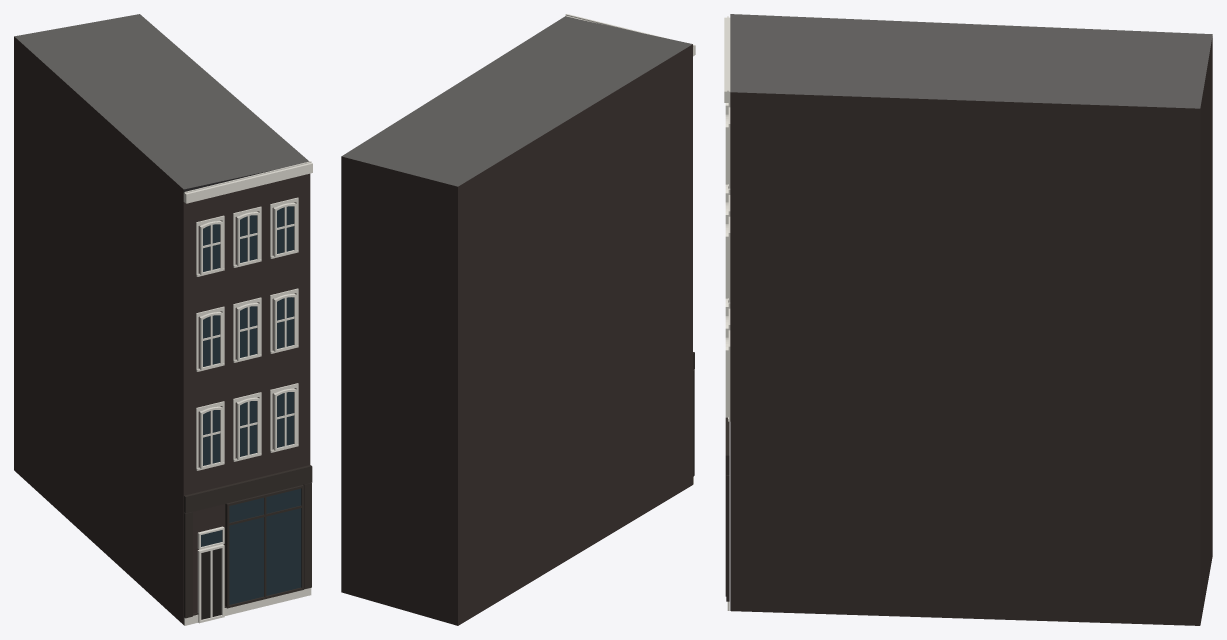
3 renders of one model, left to right at view 1: azimuth 30°, elevation 25°; view 2: azimuth 150°, elevation 25°; view 3: azimuth 270°, elevation 25°, orthographic. The views are drawn at different scales.
Visible parts, largest first — view 1: spec-0363100012182712; view 2: spec-0363100012182712; view 3: spec-0363100012182712.
Part boxes in pixels (x1,y1,x2,y2): spec-0363100012182712: (14,14,312,625); spec-0363100012182712: (341,14,695,625); spec-0363100012182712: (724,14,1212,625).
Size of the model in its own units: 5.97 by 16.38 by 13.87.
